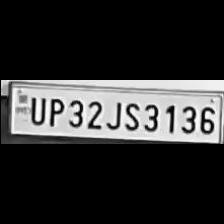1: (160, 102, 178, 132)
2: (83, 96, 103, 130)
3: (140, 100, 160, 132), (64, 96, 82, 128), (178, 102, 196, 134)
6: (196, 102, 216, 134)
J: (103, 98, 121, 130)
P: (43, 95, 62, 127)
S: (122, 99, 140, 131)
U: (25, 94, 45, 124)
